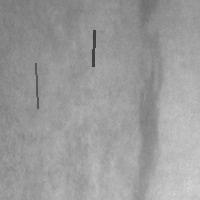inclusion: (132, 29, 163, 195), (33, 61, 39, 110), (91, 28, 96, 68)
